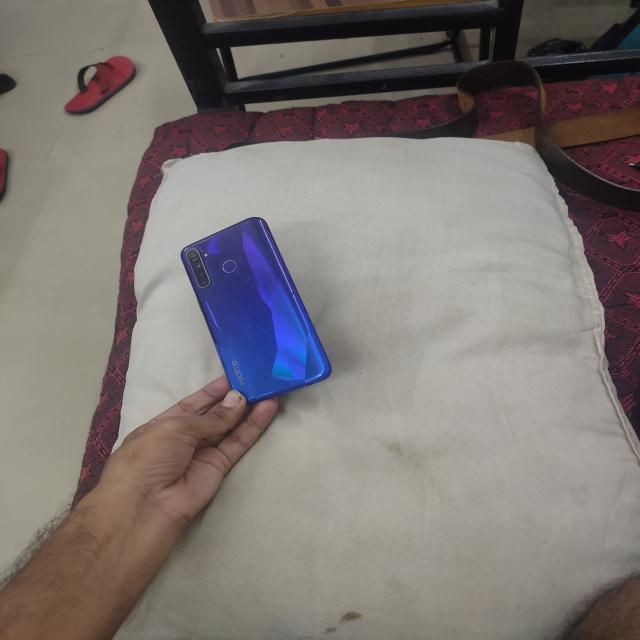Phone: (174, 213, 338, 404)
